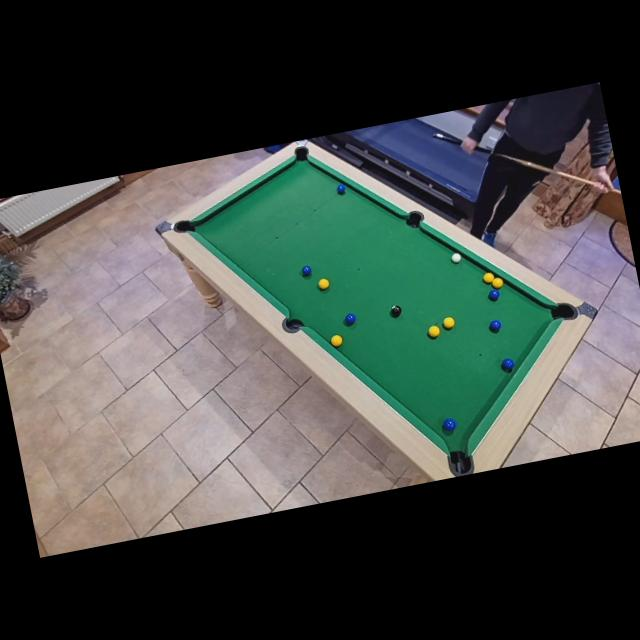Ball: (442, 418, 457, 432), (501, 358, 515, 372), (428, 325, 441, 338), (488, 289, 501, 302), (489, 320, 502, 333), (343, 313, 356, 326), (389, 304, 402, 317), (482, 272, 496, 284), (442, 316, 456, 328), (492, 277, 504, 290), (330, 336, 343, 348), (318, 278, 330, 290), (300, 264, 312, 276), (450, 252, 462, 264), (336, 184, 346, 195)
